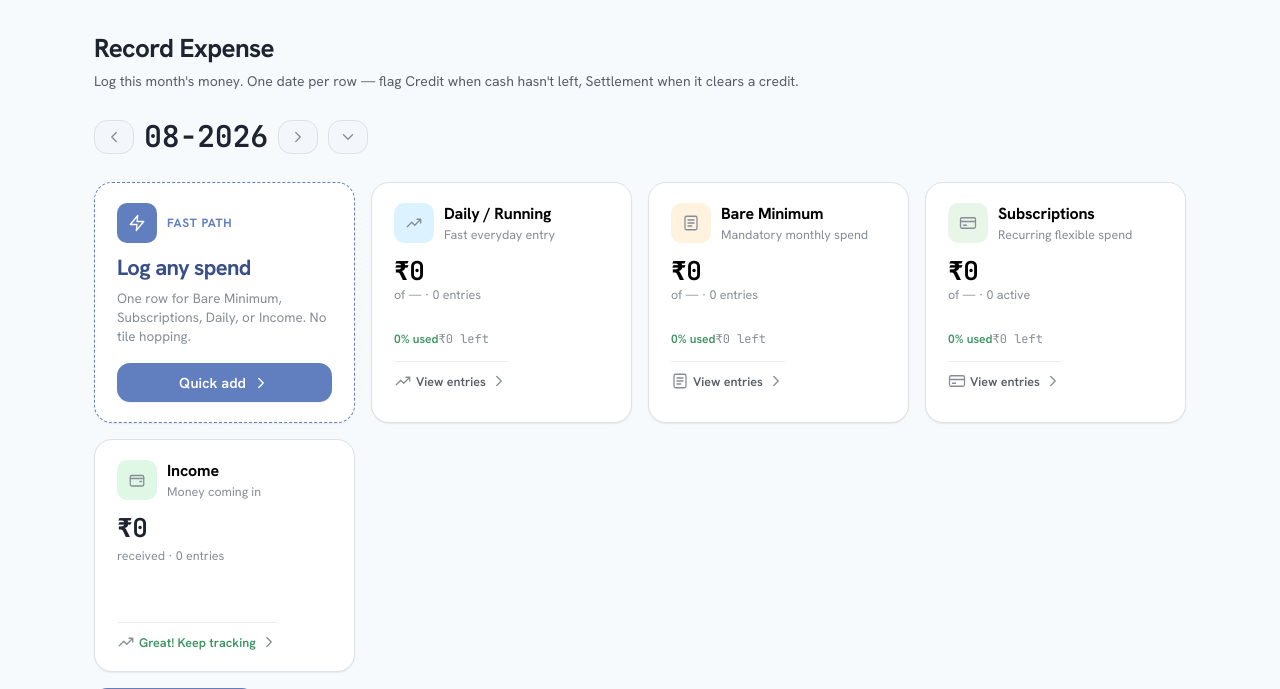
it: RecordPage overview › does not enable budget inputs until GET succeeds
Click the text "Daily / Running": (500, 214) [444, 204, 555, 224]
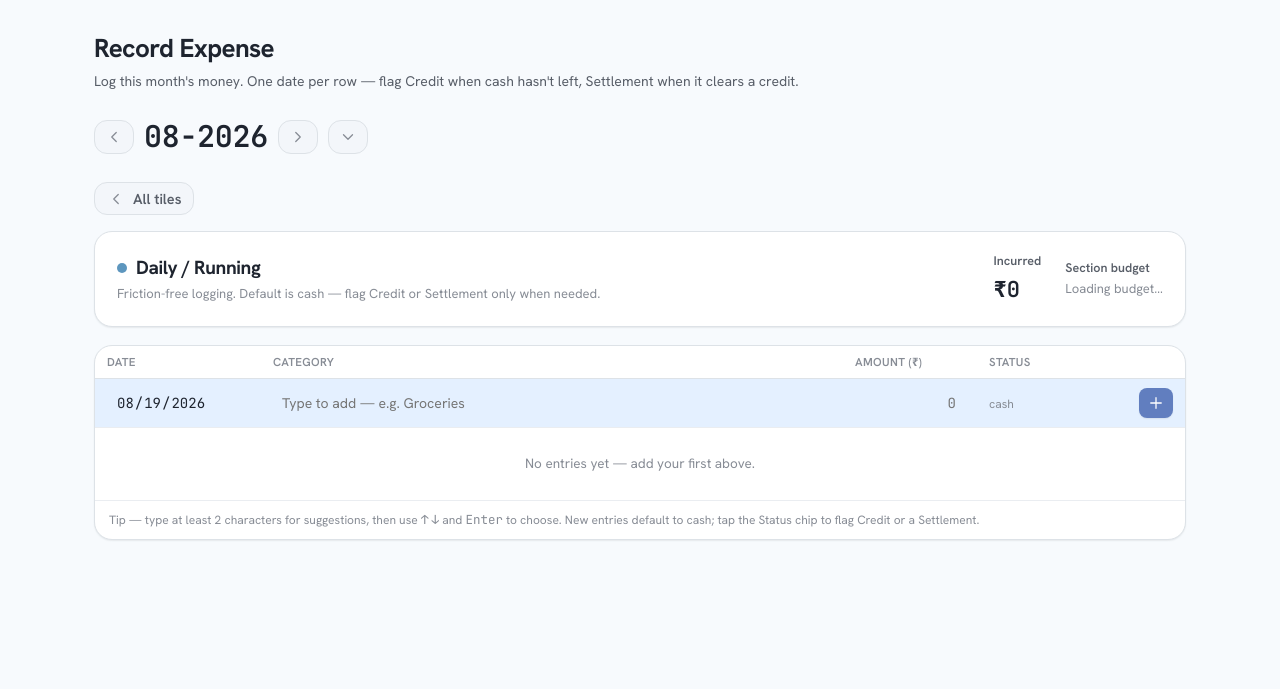
Now the text "Loading budget…" is shown, box [1065, 280, 1163, 299]
